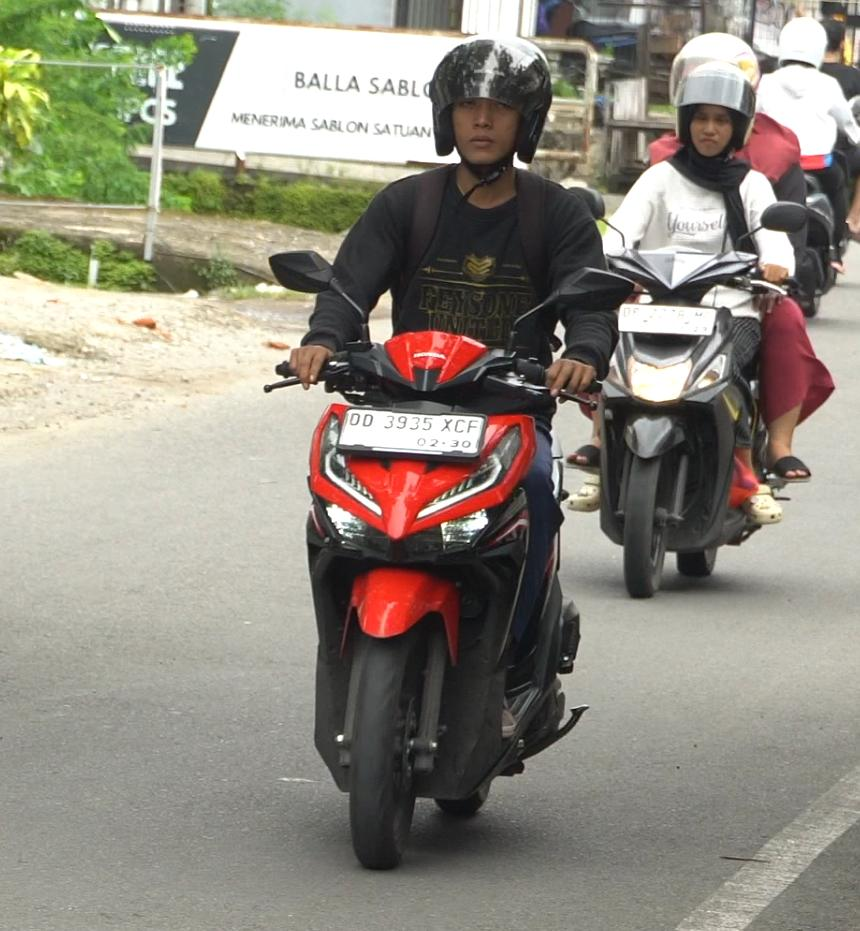number-plate: (340, 401, 487, 461), (609, 296, 723, 345)
